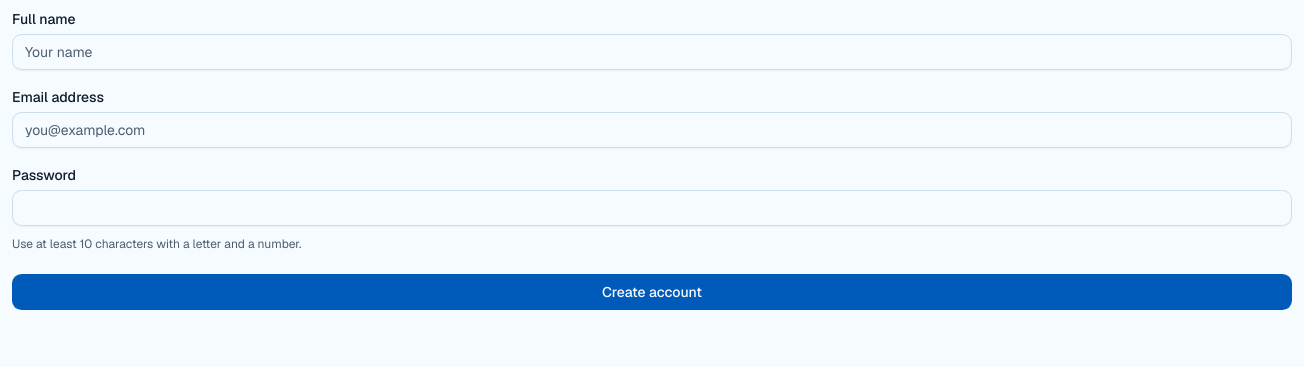
it: SignUpForm › rejects a weak password before contacting the auth service
In the field labelled "Full name": (652, 52) top-left (12, 34), bottom-right (1292, 70), type "Solar User"
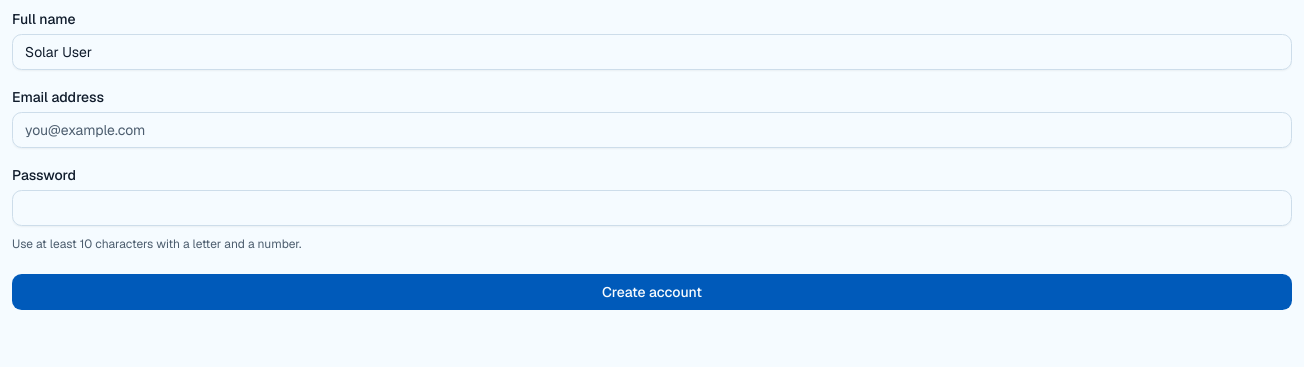
In the field labelled "Email address": (652, 130) top-left (12, 112), bottom-right (1292, 148), type "solar@example.com"
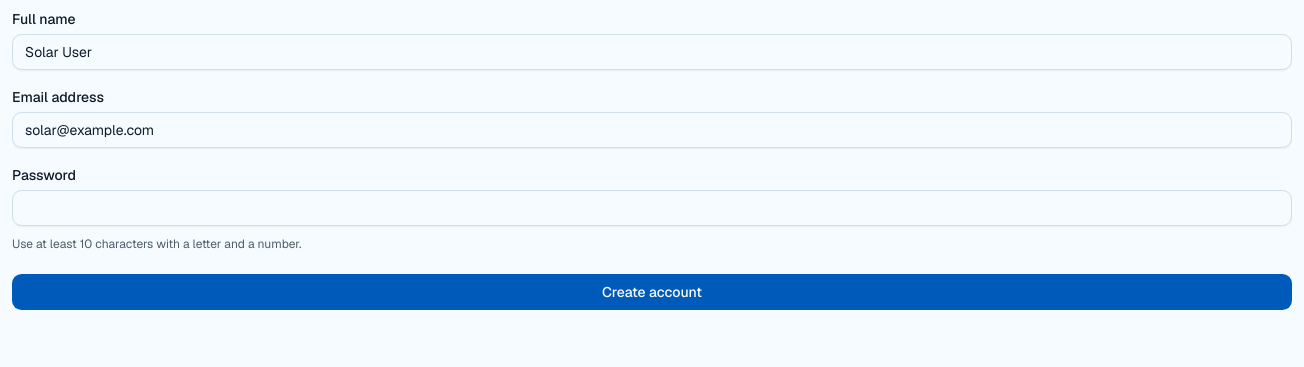
In the password field labelled "Password": (652, 208) top-left (12, 190), bottom-right (1292, 226), type "password"
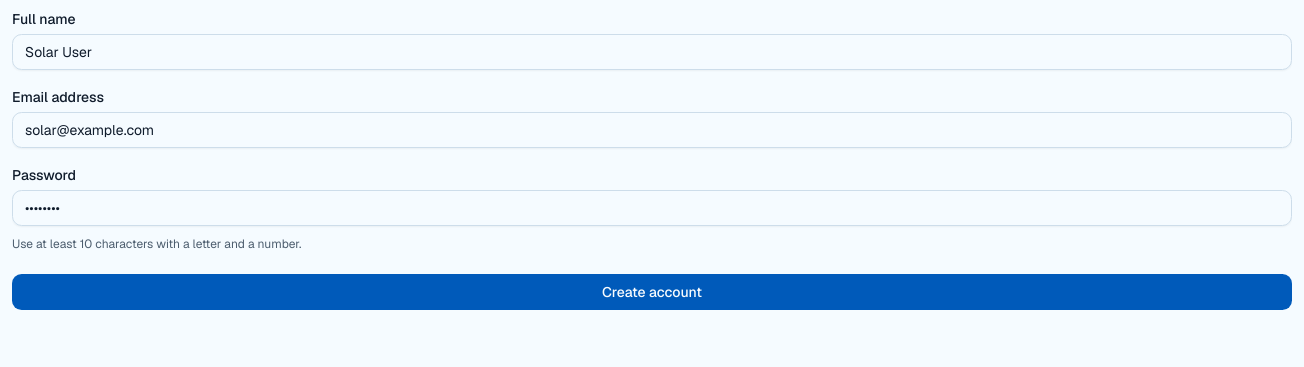
Submit the form named "Create account"
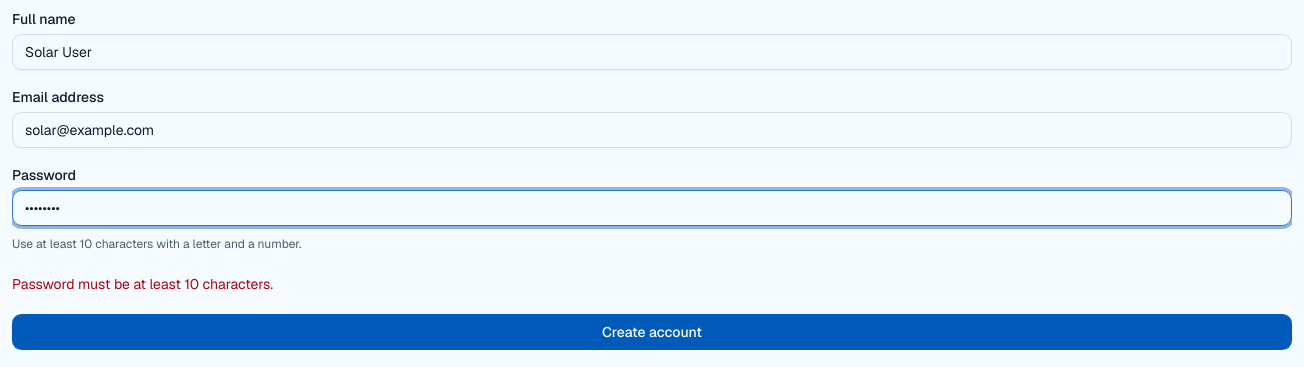
Expected: the message shows "at least 10 characters", top-left (12, 275), bottom-right (273, 293)
